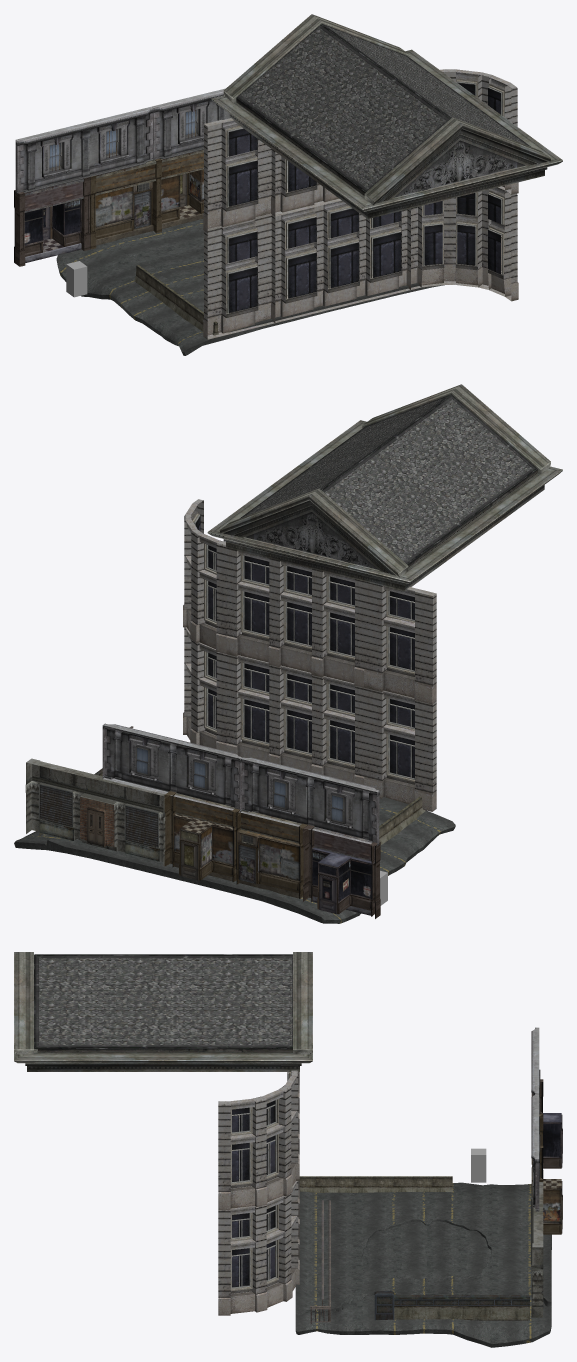
File: Level_Test.fbx
The picture shows the model from 3 angles, top to bottom: view 1: azimuth 30°, elevation 25°; view 2: azimuth 150°, elevation 25°; view 3: azimuth 270°, elevation 25°; orthographic projection. The views are drawn at different scales.
Visible parts, largest first — view 1: ARCH_GCPD_EntranceRoof_04, Gotham_ARCH_Classic_BigWinx2 (×2), Gotham_Arch_Classic_BigWiny2, Gotham_ARCH_Classic_WinBCorner (×2), BridgeRoad_Destroyed_2048_Custom_02, Gotham_GCPD_Window1024 (×2), Gotham_Groundfloor_Shop_OldB, Gotham_GroundFloor_Shop_OlddB5_512, ConcreteBarrier01 (×2), cube_2m; view 2: ARCH_GCPD_EntranceRoof_04, Gotham_ARCH_Classic_BigWinx2 (×2), Gotham_GCPD_Window1024 (×2), Gotham_Arch_Classic_BigWiny2, Gotham_Groundfloor_Shop_OldB, OZ_Gotham_GroundFloor_Shop_OldA_03, Gotham_ARCH_Classic_WinBCorner (×2), BridgeRoad_Destroyed_2048_Custom_02, Gotham_GroundFloor_Shop_OlddB5_512, ConcreteBarrier01; view 3: ARCH_GCPD_EntranceRoof_04, BridgeRoad_Destroyed_2048_Custom_02, Gotham_ARCH_Classic_WinBCorner (×2), Bridge_Rail_01_1024, ConcreteBarrier01 (×2), Gotham_GCPD_Window1024 (×2), OZ_Gotham_GroundFloor_Shop_OldA_03, Gotham_Groundfloor_Shop_OldB, Gotham_GroundFloor_Shop_OlddB5_512, cube_2m.
Boxes of the visible parts, x1,y1,x2,y2 form: ARCH_GCPD_EntranceRoof_04: [211, 14, 562, 218]; Gotham_ARCH_Classic_BigWinx2 (×2): [271, 149, 410, 322]; Gotham_Arch_Classic_BigWiny2: [203, 118, 274, 339]; Gotham_ARCH_Classic_WinBCorner (×2): [406, 69, 518, 301]; BridgeRoad_Destroyed_2048_Custom_02: [56, 219, 444, 355]; Gotham_GCPD_Window1024 (×2): [15, 88, 229, 194]; Gotham_Groundfloor_Shop_OldB: [90, 149, 203, 249]; Gotham_GroundFloor_Shop_OlddB5_512: [14, 177, 90, 266]; ConcreteBarrier01 (×2): [134, 265, 218, 335]; cube_2m: [66, 261, 87, 297]; ARCH_GCPD_EntranceRoof_04: [207, 384, 562, 591]; Gotham_ARCH_Classic_BigWinx2 (×2): [226, 548, 364, 784]; Gotham_GCPD_Window1024 (×2): [102, 723, 379, 845]; Gotham_Arch_Classic_BigWiny2: [364, 581, 436, 811]; Gotham_Groundfloor_Shop_OldB: [164, 791, 307, 898]; OZ_Gotham_GroundFloor_Shop_OldA_03: [25, 758, 165, 865]; Gotham_ARCH_Classic_WinBCorner (×2): [183, 499, 227, 751]; BridgeRoad_Destroyed_2048_Custom_02: [14, 797, 455, 923]; Gotham_GroundFloor_Shop_OlddB5_512: [303, 825, 380, 918]; ConcreteBarrier01: [381, 796, 425, 841]; ARCH_GCPD_EntranceRoof_04: [14, 952, 312, 1071]; BridgeRoad_Destroyed_2048_Custom_02: [295, 1182, 551, 1347]; Gotham_ARCH_Classic_WinBCorner (×2): [218, 1070, 299, 1315]; Bridge_Rail_01_1024: [374, 1291, 529, 1320]; ConcreteBarrier01 (×2): [299, 1176, 452, 1192]; Gotham_GCPD_Window1024 (×2): [531, 1027, 540, 1211]; OZ_Gotham_GroundFloor_Shop_OldA_03: [531, 1182, 543, 1317]; Gotham_Groundfloor_Shop_OldB: [531, 1114, 562, 1234]; Gotham_GroundFloor_Shop_OlddB5_512: [531, 1079, 562, 1170]; cube_2m: [471, 1148, 486, 1182].
Size of what is drawn, in the model's own units: 27.25 by 22.62 by 36.25.
